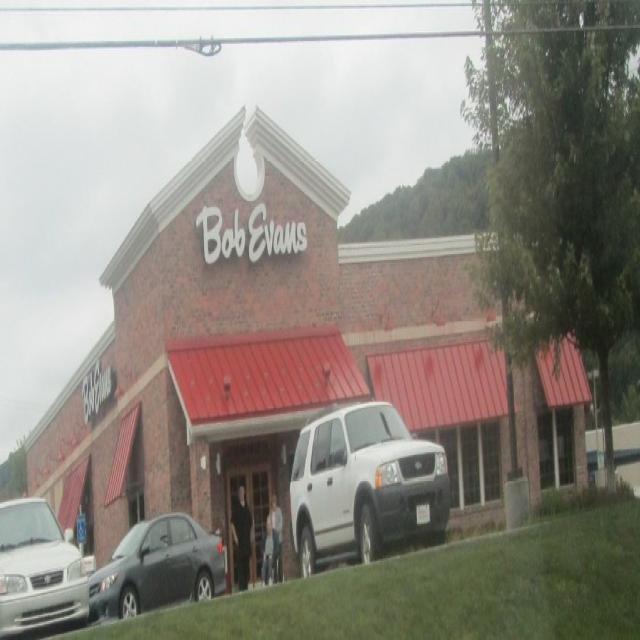car: (287, 398, 449, 577)
